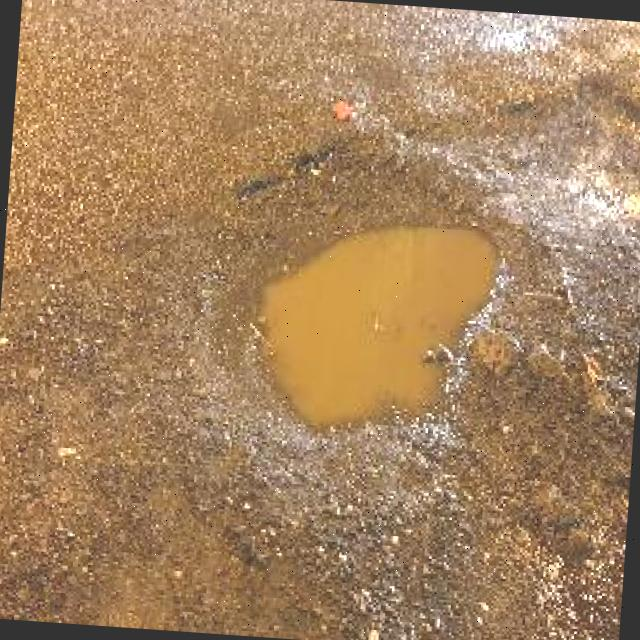stagnation: (218, 177, 525, 466)
